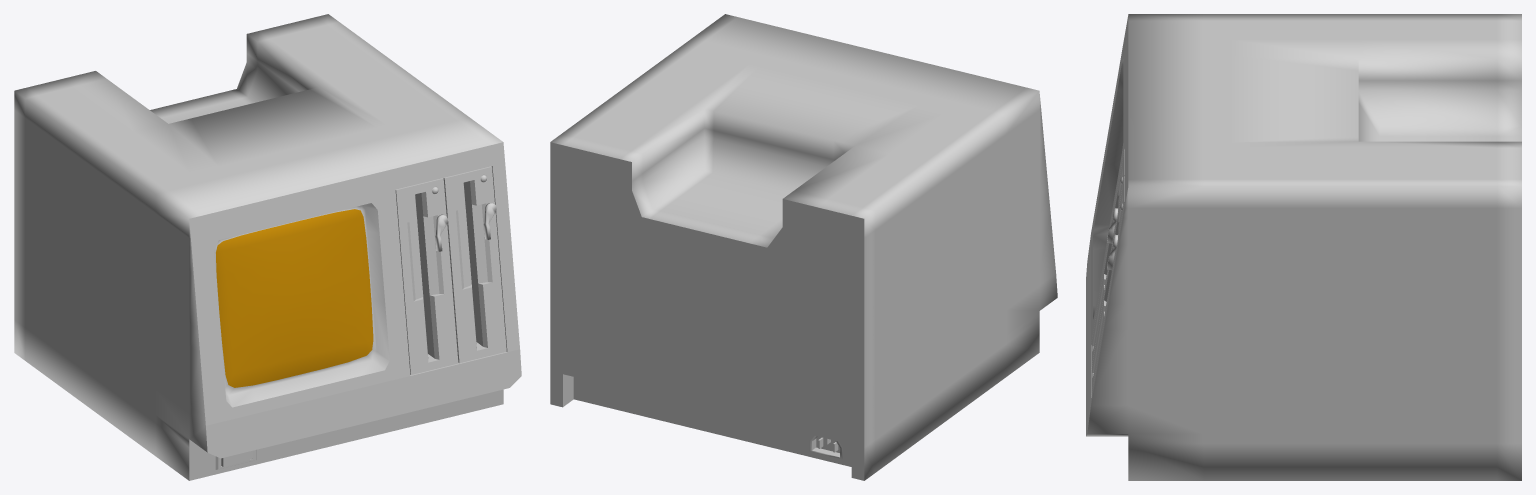
File: Terminal.fbx
3 renders of one model, left to right at view 1: azimuth 30°, elevation 25°; view 2: azimuth 150°, elevation 25°; view 3: azimuth 270°, elevation 25°, orthographic. The views are drawn at different scales.
Parts seen in each view (by area): view 1: Cube; view 2: Cube; view 3: Cube.
Boxes of the visible parts, x1,y1,x2,y2 form: Cube: (14,14,521,480); Cube: (550,14,1057,480); Cube: (1086,14,1521,480).
Bounding box in the file's own units: 168 × 134 × 179.
